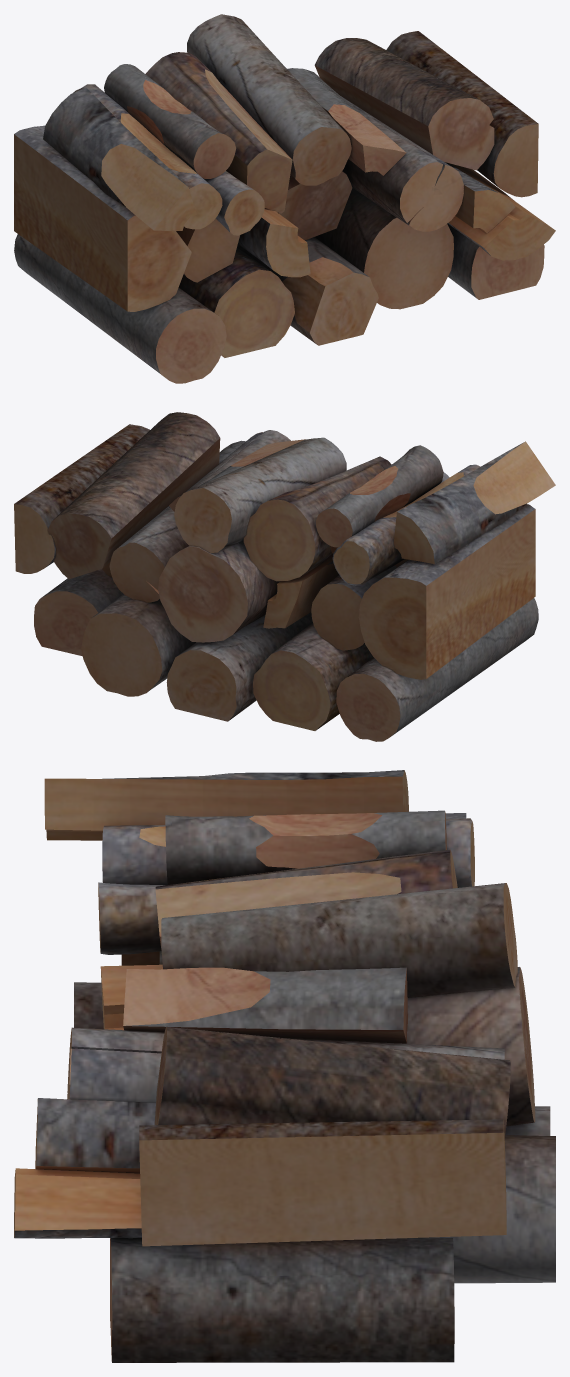
File: firewood_low_poly.glb
The picture shows the model from 3 angles, top to bottom: view 1: azimuth 30°, elevation 25°; view 2: azimuth 150°, elevation 25°; view 3: azimuth 270°, elevation 25°; orthographic projection. The views are drawn at different scales.
Parts seen in each view (by area): view 1: Object001_Object001_mtl_0; view 2: Object001_Object001_mtl_0; view 3: Object001_Object001_mtl_0.
Part boxes in pixels (<box>): Object001_Object001_mtl_0: <box>14,14,555,383</box>; Object001_Object001_mtl_0: <box>14,412,555,741</box>; Object001_Object001_mtl_0: <box>14,770,555,1362</box>.
Bounding box in the file's own units: 0.8231 × 0.4193 × 0.6111.
1 material, 1 textured.
